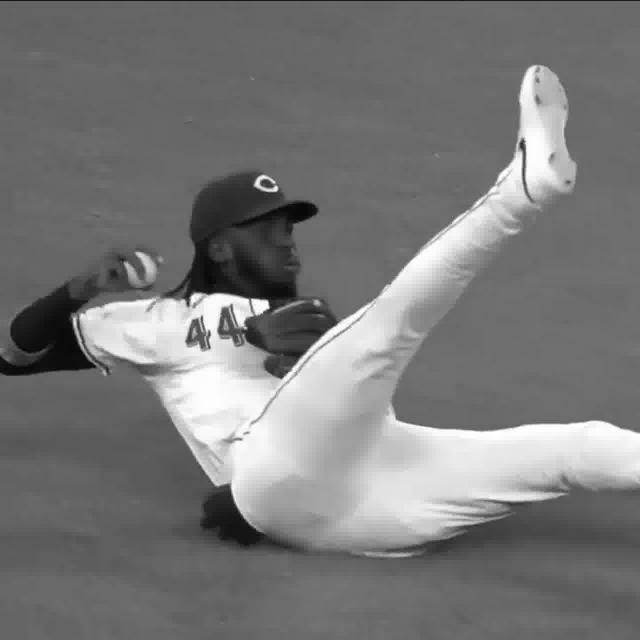baseball: (121, 249, 166, 293)
baseball_glove: (244, 289, 339, 370)
shoe: (513, 59, 578, 200)
